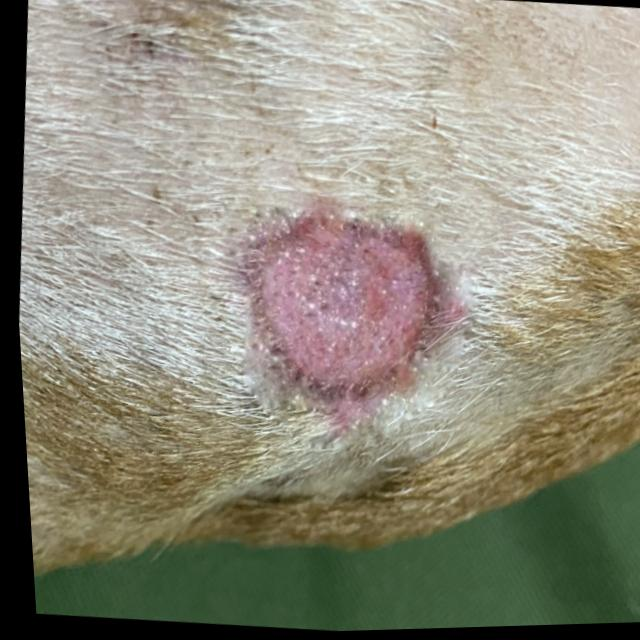ringworm: (215, 184, 455, 431)
